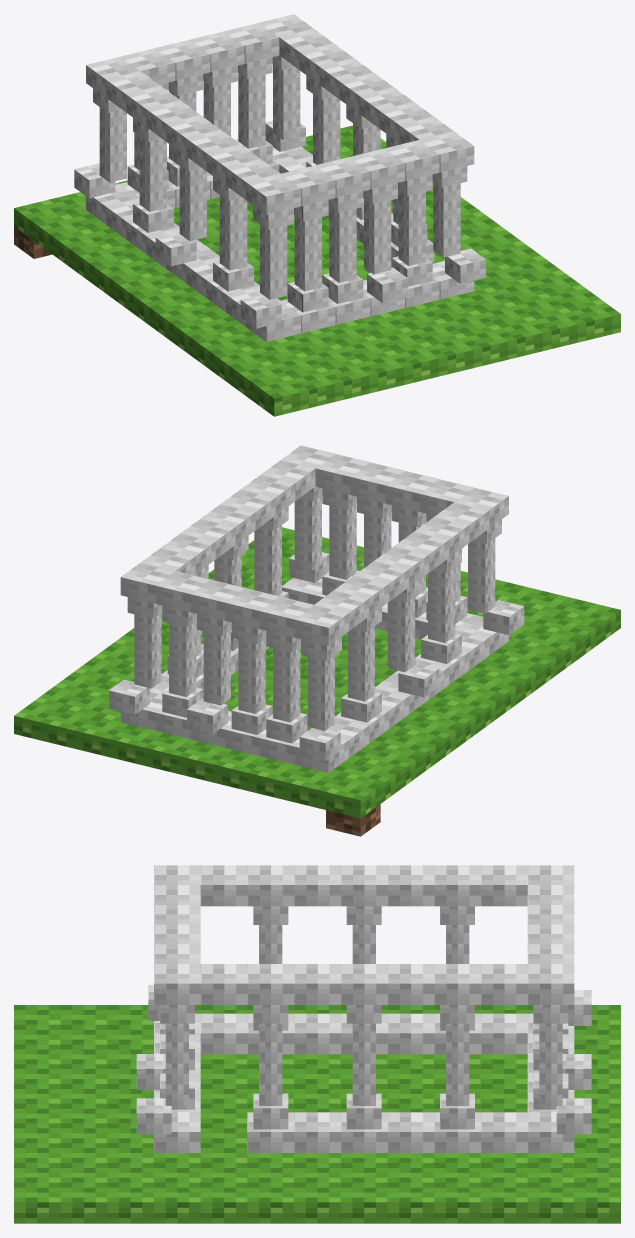
The model's file is Project.gltf.
3 renders of one model, top to bottom at view 1: azimuth 30°, elevation 25°; view 2: azimuth 150°, elevation 25°; view 3: azimuth 270°, elevation 25°, orthographic. The views are drawn at different scales.
Visible parts, largest first — view 1: Cube.159, Cube.055, Cube.095, Cube.039, Cube.071, Cube.079, Cube.087, Cube.023, Cube.031, Cube.063, Cube.015, Cube.049 (+40 smaller); view 2: Cube.159, Cube.008, Cube.087, Cube.023, Cube.047, Cube.015, Cube.039, Cube.031, Cube.071, Cube.079, Cube.063, Cube.001 (+52 smaller); view 3: Cube.159, Cube.106, Cube.126, Cube.107, Cube.127, Cube.096, Cube.097, Cube.105, Cube.115, Cube.116, Cube.117, Cube.125 (+65 smaller).
Boxes of the visible parts, x1,y1,x2,y2 form: Cube.159: (14, 125, 620, 416); Cube.055: (246, 173, 300, 214); Cube.095: (420, 131, 474, 172); Cube.039: (225, 22, 279, 63); Cube.071: (316, 157, 370, 197); Cube.079: (350, 148, 404, 189); Cube.087: (385, 140, 439, 180); Cube.023: (156, 39, 209, 80); Cube.031: (190, 31, 244, 72); Cube.063: (281, 165, 335, 206); Cube.015: (121, 48, 175, 84); Cube.049: (240, 294, 281, 328); Cube.159: (14, 527, 620, 818); Cube.008: (294, 605, 348, 645); Cube.087: (315, 453, 369, 494); Cube.023: (224, 588, 278, 628); Cube.047: (120, 562, 174, 603); Cube.015: (259, 596, 313, 637); Cube.039: (155, 571, 209, 611); Cube.031: (190, 579, 243, 620); Cube.071: (385, 470, 439, 511); Cube.079: (350, 462, 404, 503); Cube.063: (419, 479, 473, 515); Cube.001: (299, 728, 340, 761); Cube.159: (14, 1005, 620, 1223); Cube.106: (387, 865, 434, 906); Cube.126: (200, 865, 247, 906); Cube.107: (387, 1013, 434, 1054); Cube.127: (200, 1013, 247, 1054); Cube.096: (481, 865, 527, 906); Cube.097: (481, 1013, 527, 1054); Cube.105: (434, 865, 480, 906); Cube.115: (341, 865, 387, 906); Cube.116: (294, 865, 340, 906); Cube.117: (294, 1013, 340, 1054); Cube.125: (247, 865, 293, 906).
Bounding box in the file's own units: 40 × 20 × 52.
3 materials, 3 textured.
